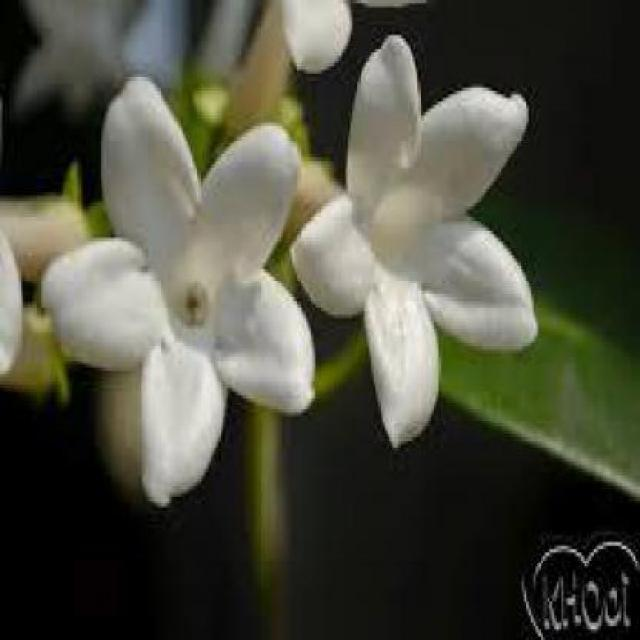flower: (48, 82, 335, 523), (308, 35, 569, 462)
